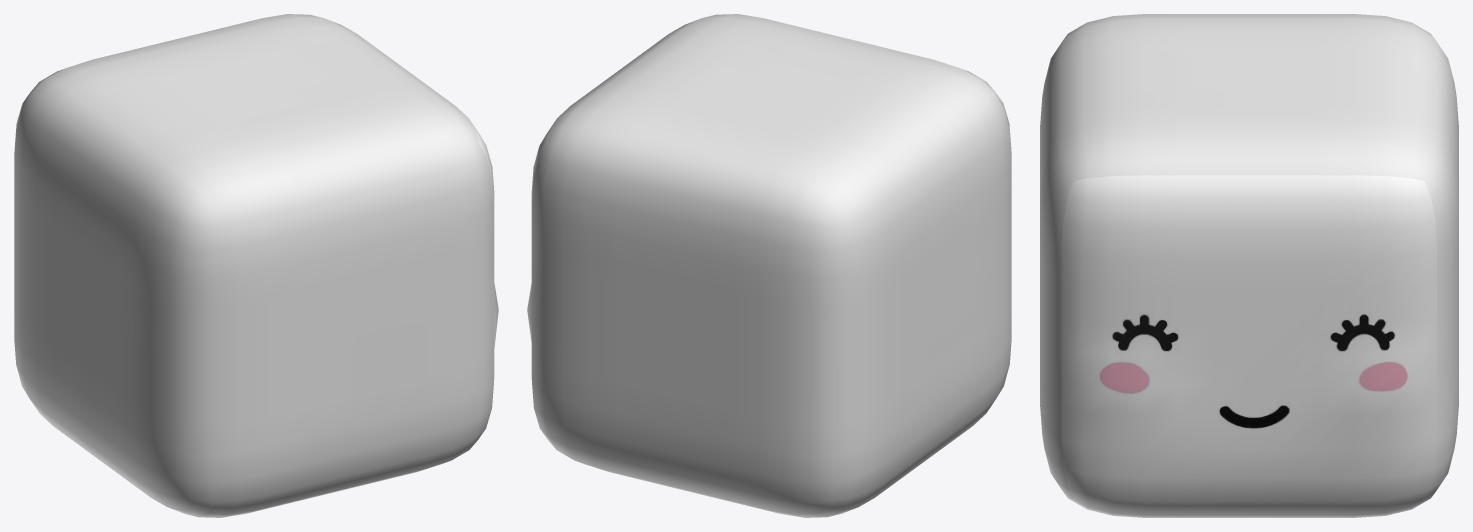
The model's file is Happy_Box.fbx.
3 views of the same model, side by side, from view 1: azimuth 30°, elevation 25°; view 2: azimuth 150°, elevation 25°; view 3: azimuth 270°, elevation 25° (orthographic). The views are drawn at different scales.
Parts seen in each view (by area): view 1: pCube1; view 2: pCube1; view 3: pCube1.
Part boxes in pixels (<box>): pCube1: <box>14,14,498,517</box>; pCube1: <box>527,14,1011,517</box>; pCube1: <box>1040,14,1458,517</box>.
Bounding box in the file's own units: 51.38 × 50.71 × 50.71.
Materials: 1 (1 with a texture image).
